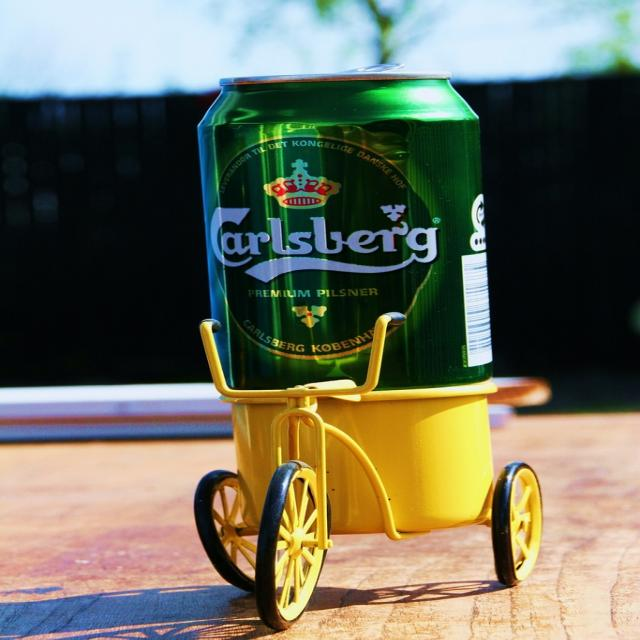carlsberg: (205, 134, 446, 362)
